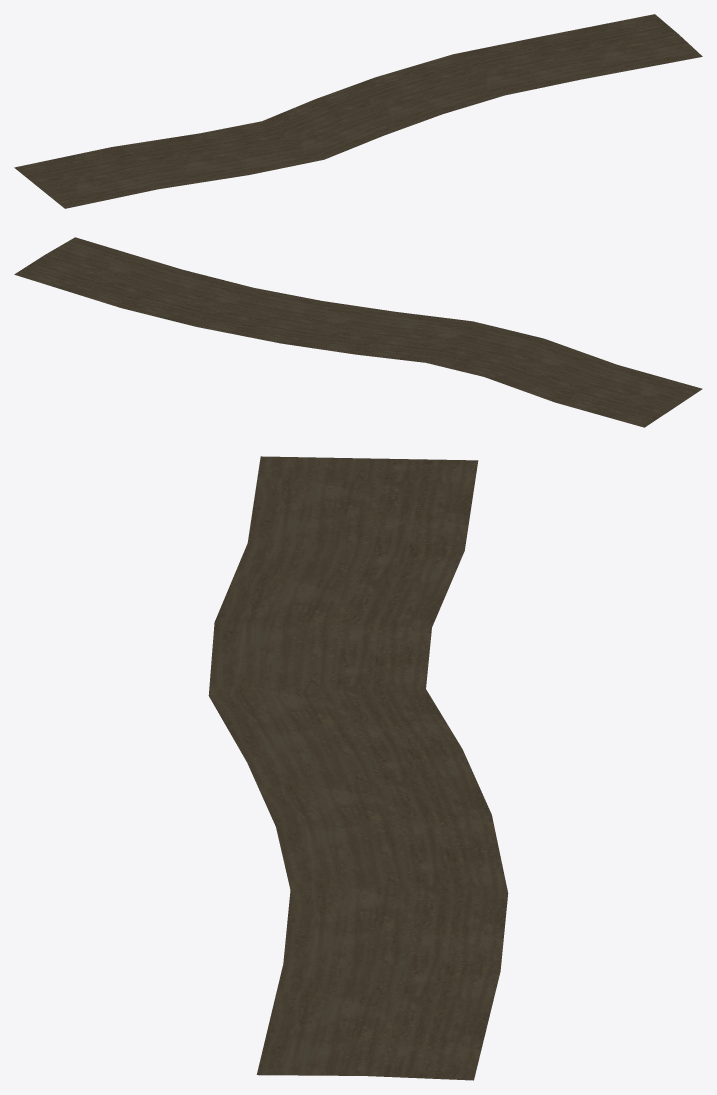
The model's file is blend_path03.fbx.
The picture shows the model from 3 angles, top to bottom: view 1: azimuth 30°, elevation 25°; view 2: azimuth 150°, elevation 25°; view 3: azimuth 270°, elevation 25°; orthographic projection. The views are drawn at different scales.
Parts seen in each view (by area): view 1: obj2; view 2: obj2; view 3: obj2.
Boxes of the visible parts, x1,y1,x2,y2 form: obj2: (14,14,702,208); obj2: (14,237,702,427); obj2: (208,456,508,1080).
Size of the model in its own units: 36.06 by 0.2101 by 7.36.
